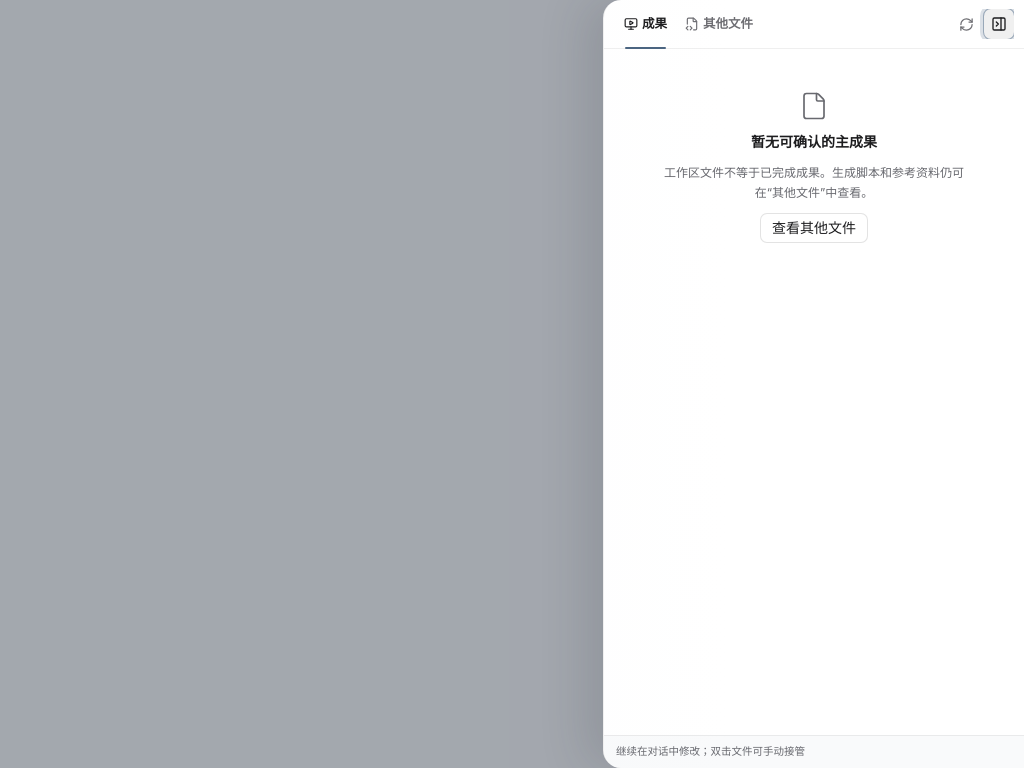
Test: ChatArtifactPanel › does not let a slow chat A tree replace the resolved chat B tree
Click the button "其他文件" at (719, 24), box [677,0,761,48]
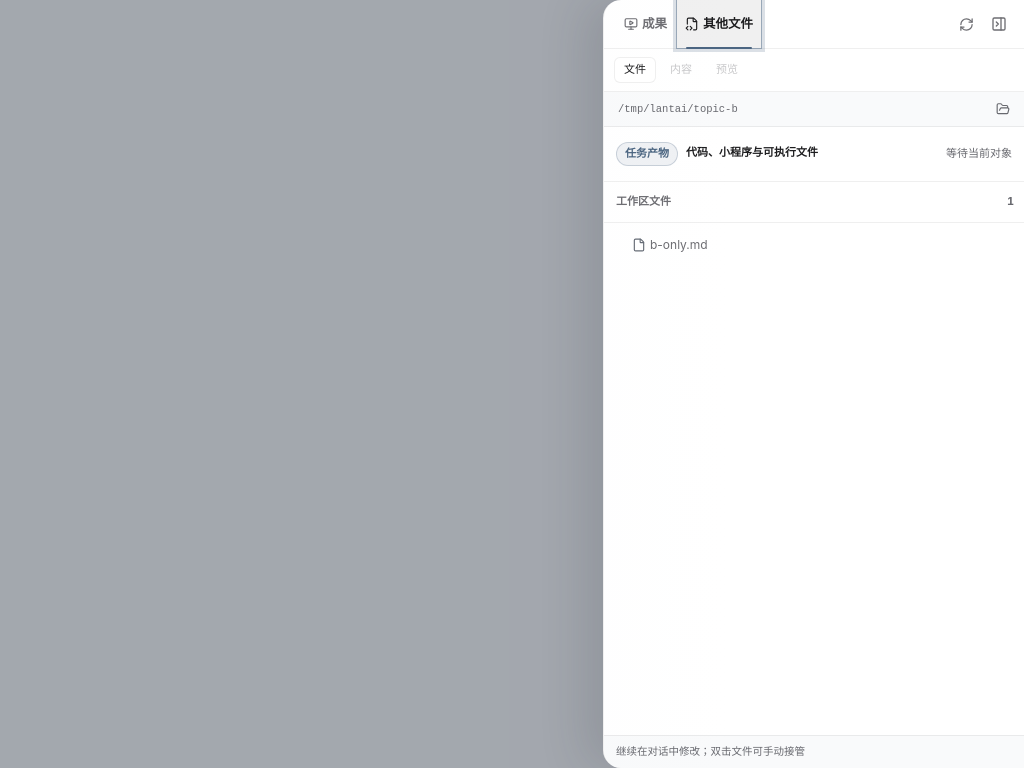
Check: the text "b-only.md" is shown, box [650,237,708,252]
Check: the element titled "/tmp/lantai/topic-b" is shown, box [604,92,1023,127]
